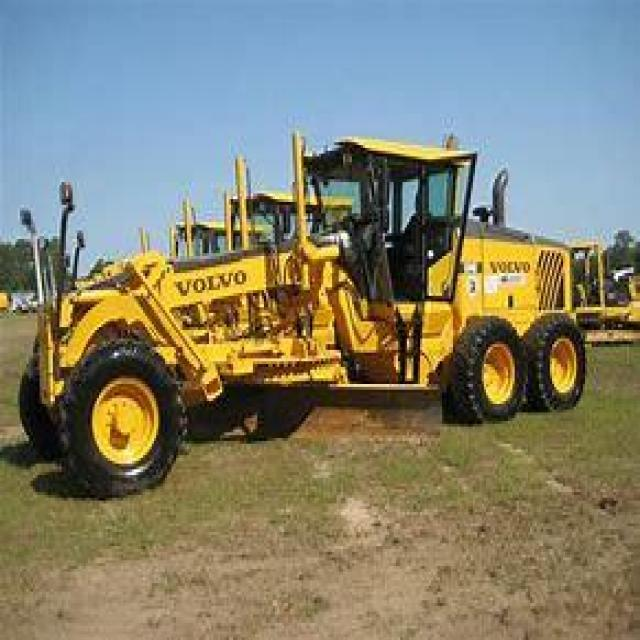Grader: (18, 108, 594, 506)
